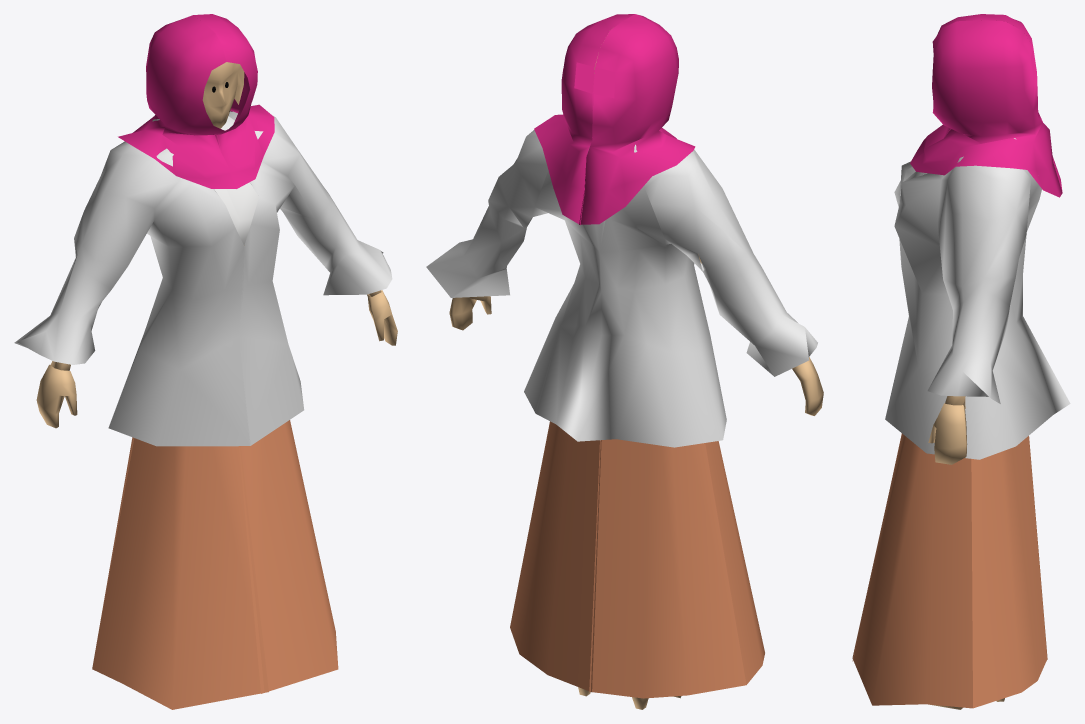
File: Rafid_Girl.fbx
3 views of the same model, side by side, from view 1: azimuth 30°, elevation 25°; view 2: azimuth 150°, elevation 25°; view 3: azimuth 270°, elevation 25° (orthographic). The views are drawn at different scales.
Visible parts, largest first — view 1: kebaya, skirt, Hijab, character, inner wear; view 2: kebaya, skirt, Hijab, character; view 3: skirt, kebaya, Hijab, character.
Boxes of the visible parts, bbox=[...] form: kebaya: bbox=[14, 111, 392, 446]; skirt: bbox=[92, 420, 338, 709]; Hijab: bbox=[118, 14, 274, 188]; character: bbox=[36, 62, 397, 428]; inner wear: bbox=[214, 182, 258, 244]; kebaya: bbox=[426, 130, 817, 447]; skirt: bbox=[510, 421, 764, 698]; Hijab: bbox=[534, 14, 695, 224]; character: bbox=[449, 56, 823, 709]; skirt: bbox=[852, 433, 1047, 708]; kebaya: bbox=[885, 138, 1070, 459]; Hijab: bbox=[910, 14, 1062, 197]; character: bbox=[928, 396, 1004, 709].
Size of the model in its own units: 399 by 670 by 199.
